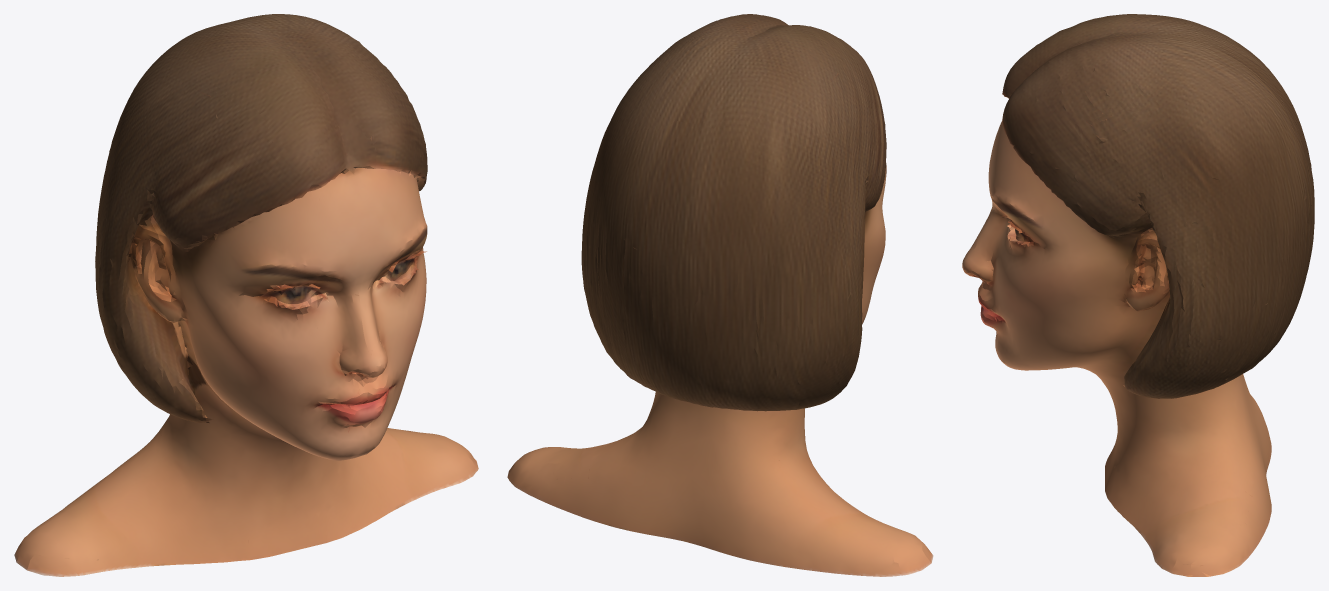
Rendered from face-skull.glb.
3 views of the same model, side by side, from view 1: azimuth 30°, elevation 25°; view 2: azimuth 150°, elevation 25°; view 3: azimuth 270°, elevation 25° (orthographic). The views are drawn at different scales.
Visible parts, largest first — view 1: Face_Neck, Face_Crown, Face_Forehead, Face_Eyes, Face_Nose, Face_Mouth; view 2: Face_Neck, Face_Crown, Face_Forehead, Face_Eyes, Face_Nose, Face_Mouth; view 3: Face_Crown, Face_Neck, Face_Forehead, Face_Eyes, Face_Nose, Face_Mouth.
Boxes of the visible parts, left/top/right/bottom form: Face_Neck: left=14, top=407, right=478, bottom=576; Face_Crown: left=122, top=14, right=423, bottom=193; Face_Forehead: left=100, top=106, right=427, bottom=277; Face_Eyes: left=95, top=196, right=427, bottom=342; Face_Nose: left=95, top=268, right=426, bottom=401; Face_Mouth: left=105, top=336, right=409, bottom=458; Face_Neck: left=507, top=392, right=933, bottom=576; Face_Crown: left=607, top=14, right=882, bottom=188; Face_Forehead: left=586, top=104, right=886, bottom=272; Face_Eyes: left=581, top=173, right=886, bottom=330; Face_Nose: left=581, top=243, right=885, bottom=379; Face_Mouth: left=592, top=299, right=870, bottom=417; Face_Crown: left=1002, top=14, right=1294, bottom=168; Face_Neck: left=1007, top=366, right=1271, bottom=576; Face_Forehead: left=988, top=100, right=1313, bottom=247; Face_Eyes: left=973, top=182, right=1314, bottom=310; Face_Nose: left=962, top=243, right=1312, bottom=359; Face_Mouth: left=978, top=299, right=1295, bottom=398.
Bounding box in the file's own units: 1.79 × 1.9 × 1.35.
Materials: 2 (1 with a texture image).
